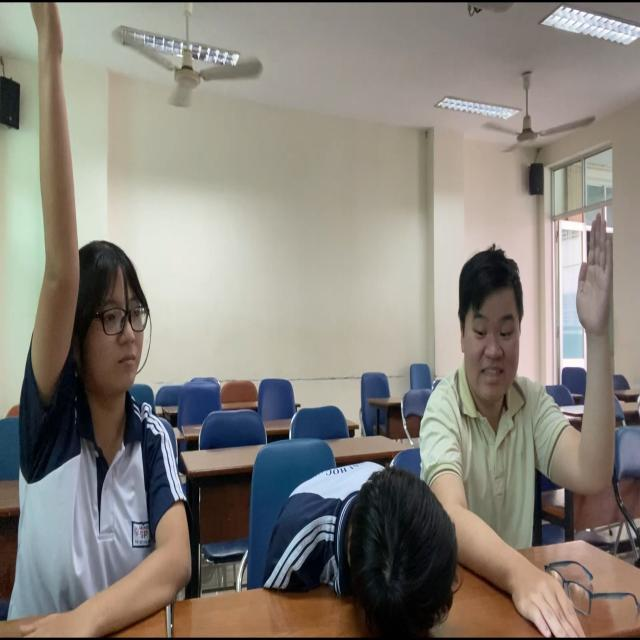raise_hand: (1, 6, 209, 640), (413, 182, 622, 640)
sleep: (265, 444, 465, 640)
